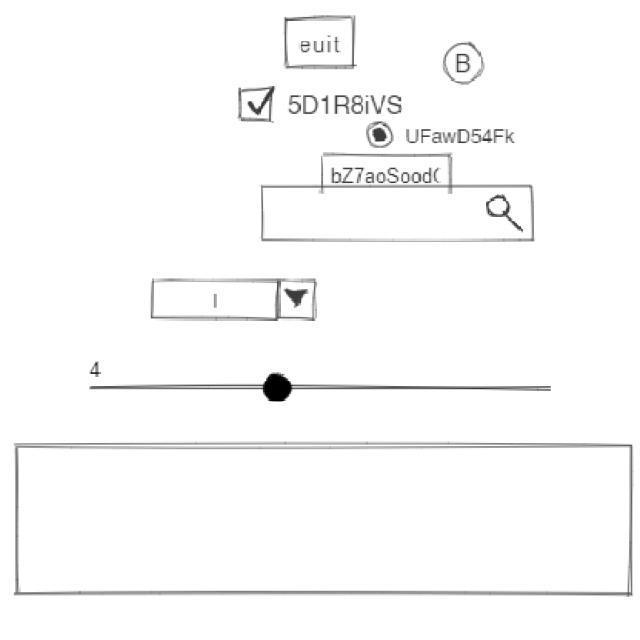button: (319, 150, 457, 197), (283, 12, 360, 74)
checkbox: (236, 85, 406, 126)
container: (13, 441, 638, 602)
icon-button: (442, 41, 488, 88)
radio: (366, 121, 518, 152)
search: (257, 184, 540, 247)
select: (149, 276, 322, 326)
slider: (108, 371, 556, 407)
